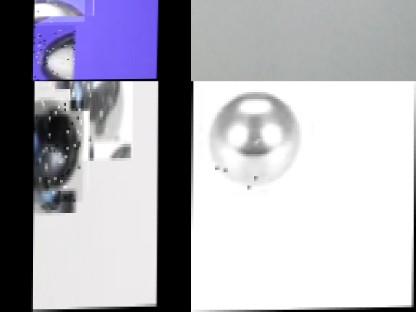ironball: (200, 80, 310, 191), (66, 80, 131, 161), (32, 100, 81, 203), (31, 25, 74, 80), (32, 0, 83, 22)
